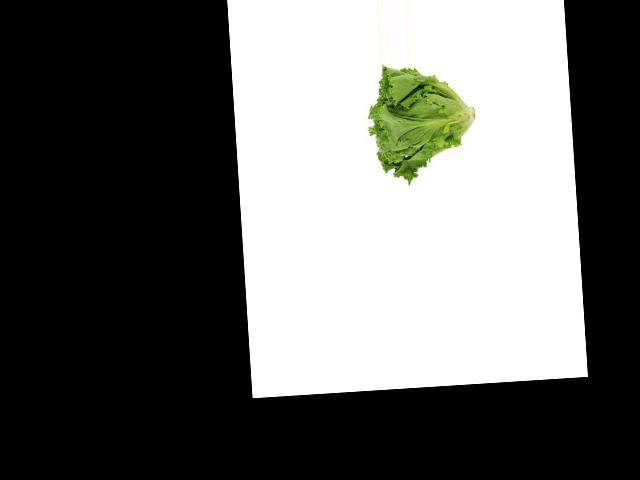lettuce: (371, 64, 469, 178)
